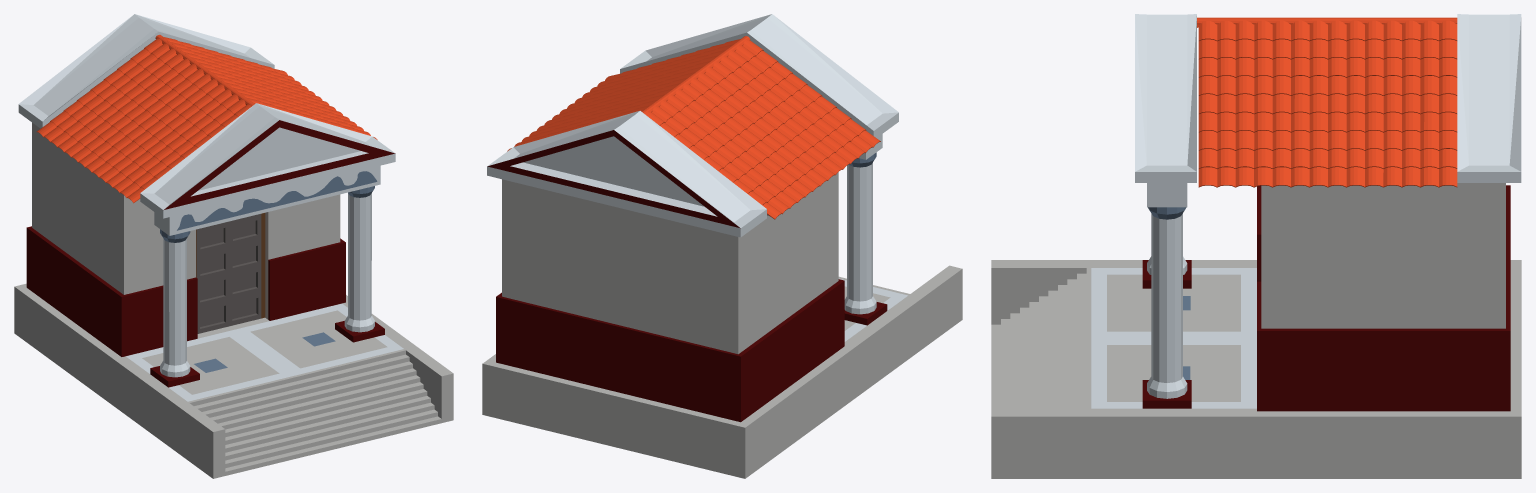
The model's file is Shrine of Mars.fbx.
3 views of the same model, side by side, from view 1: azimuth 30°, elevation 25°; view 2: azimuth 150°, elevation 25°; view 3: azimuth 270°, elevation 25° (orthographic). The views are drawn at different scales.
Parts seen in each view (by area): view 1: Shrine, Foundation, Dach mit Ziegeln, Dach mit Ziegeln.001; view 2: Shrine, Foundation, Dach mit Ziegeln, Dach mit Ziegeln.001; view 3: Shrine, Foundation, Dach mit Ziegeln.001.
Part boxes in pixels (<box>): Shrine: <box>18,14,395,387</box>; Foundation: <box>14,283,453,478</box>; Dach mit Ziegeln: <box>36,35,253,203</box>; Dach mit Ziegeln.001: <box>159,34,377,139</box>; Shrine: <box>487,14,898,422</box>; Foundation: <box>482,265,962,478</box>; Dach mit Ziegeln: <box>643,36,880,219</box>; Dach mit Ziegeln.001: <box>507,36,746,151</box>; Shrine: <box>1135,14,1521,411</box>; Foundation: <box>991,260,1521,478</box>; Dach mit Ziegeln.001: <box>1197,18,1457,187</box>.
Bounding box in the file's own units: 700 × 785 × 976.
